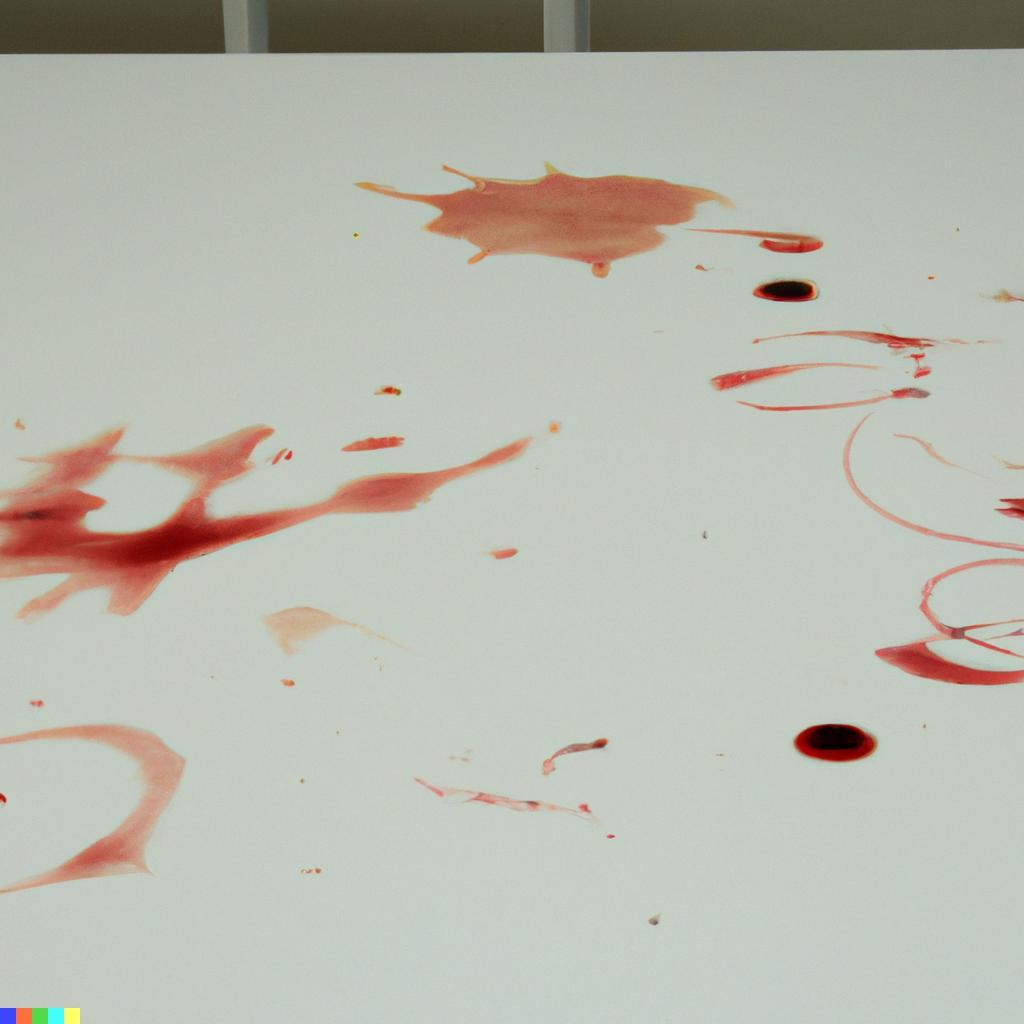Fire: (794, 723, 878, 762), (751, 278, 820, 302)
